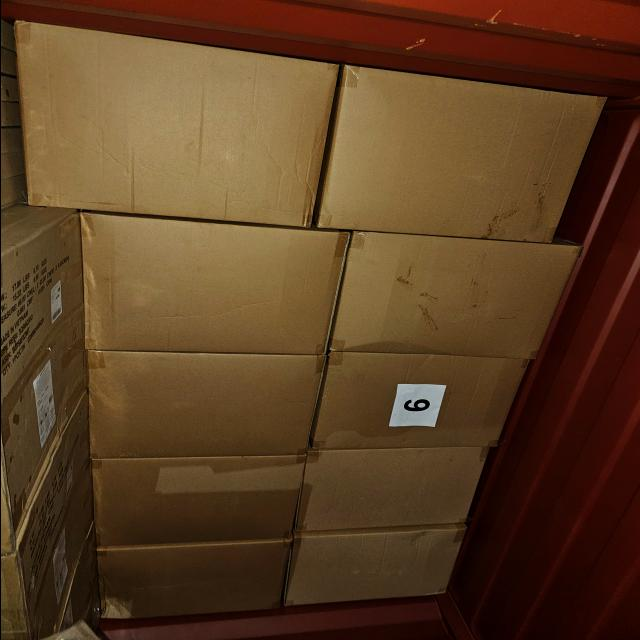Carton: (313, 84, 601, 242), (111, 52, 338, 230), (76, 223, 347, 355), (322, 241, 580, 357), (86, 355, 321, 461), (306, 358, 522, 453), (90, 464, 304, 550), (289, 442, 489, 528), (98, 542, 294, 618), (282, 530, 468, 608)
